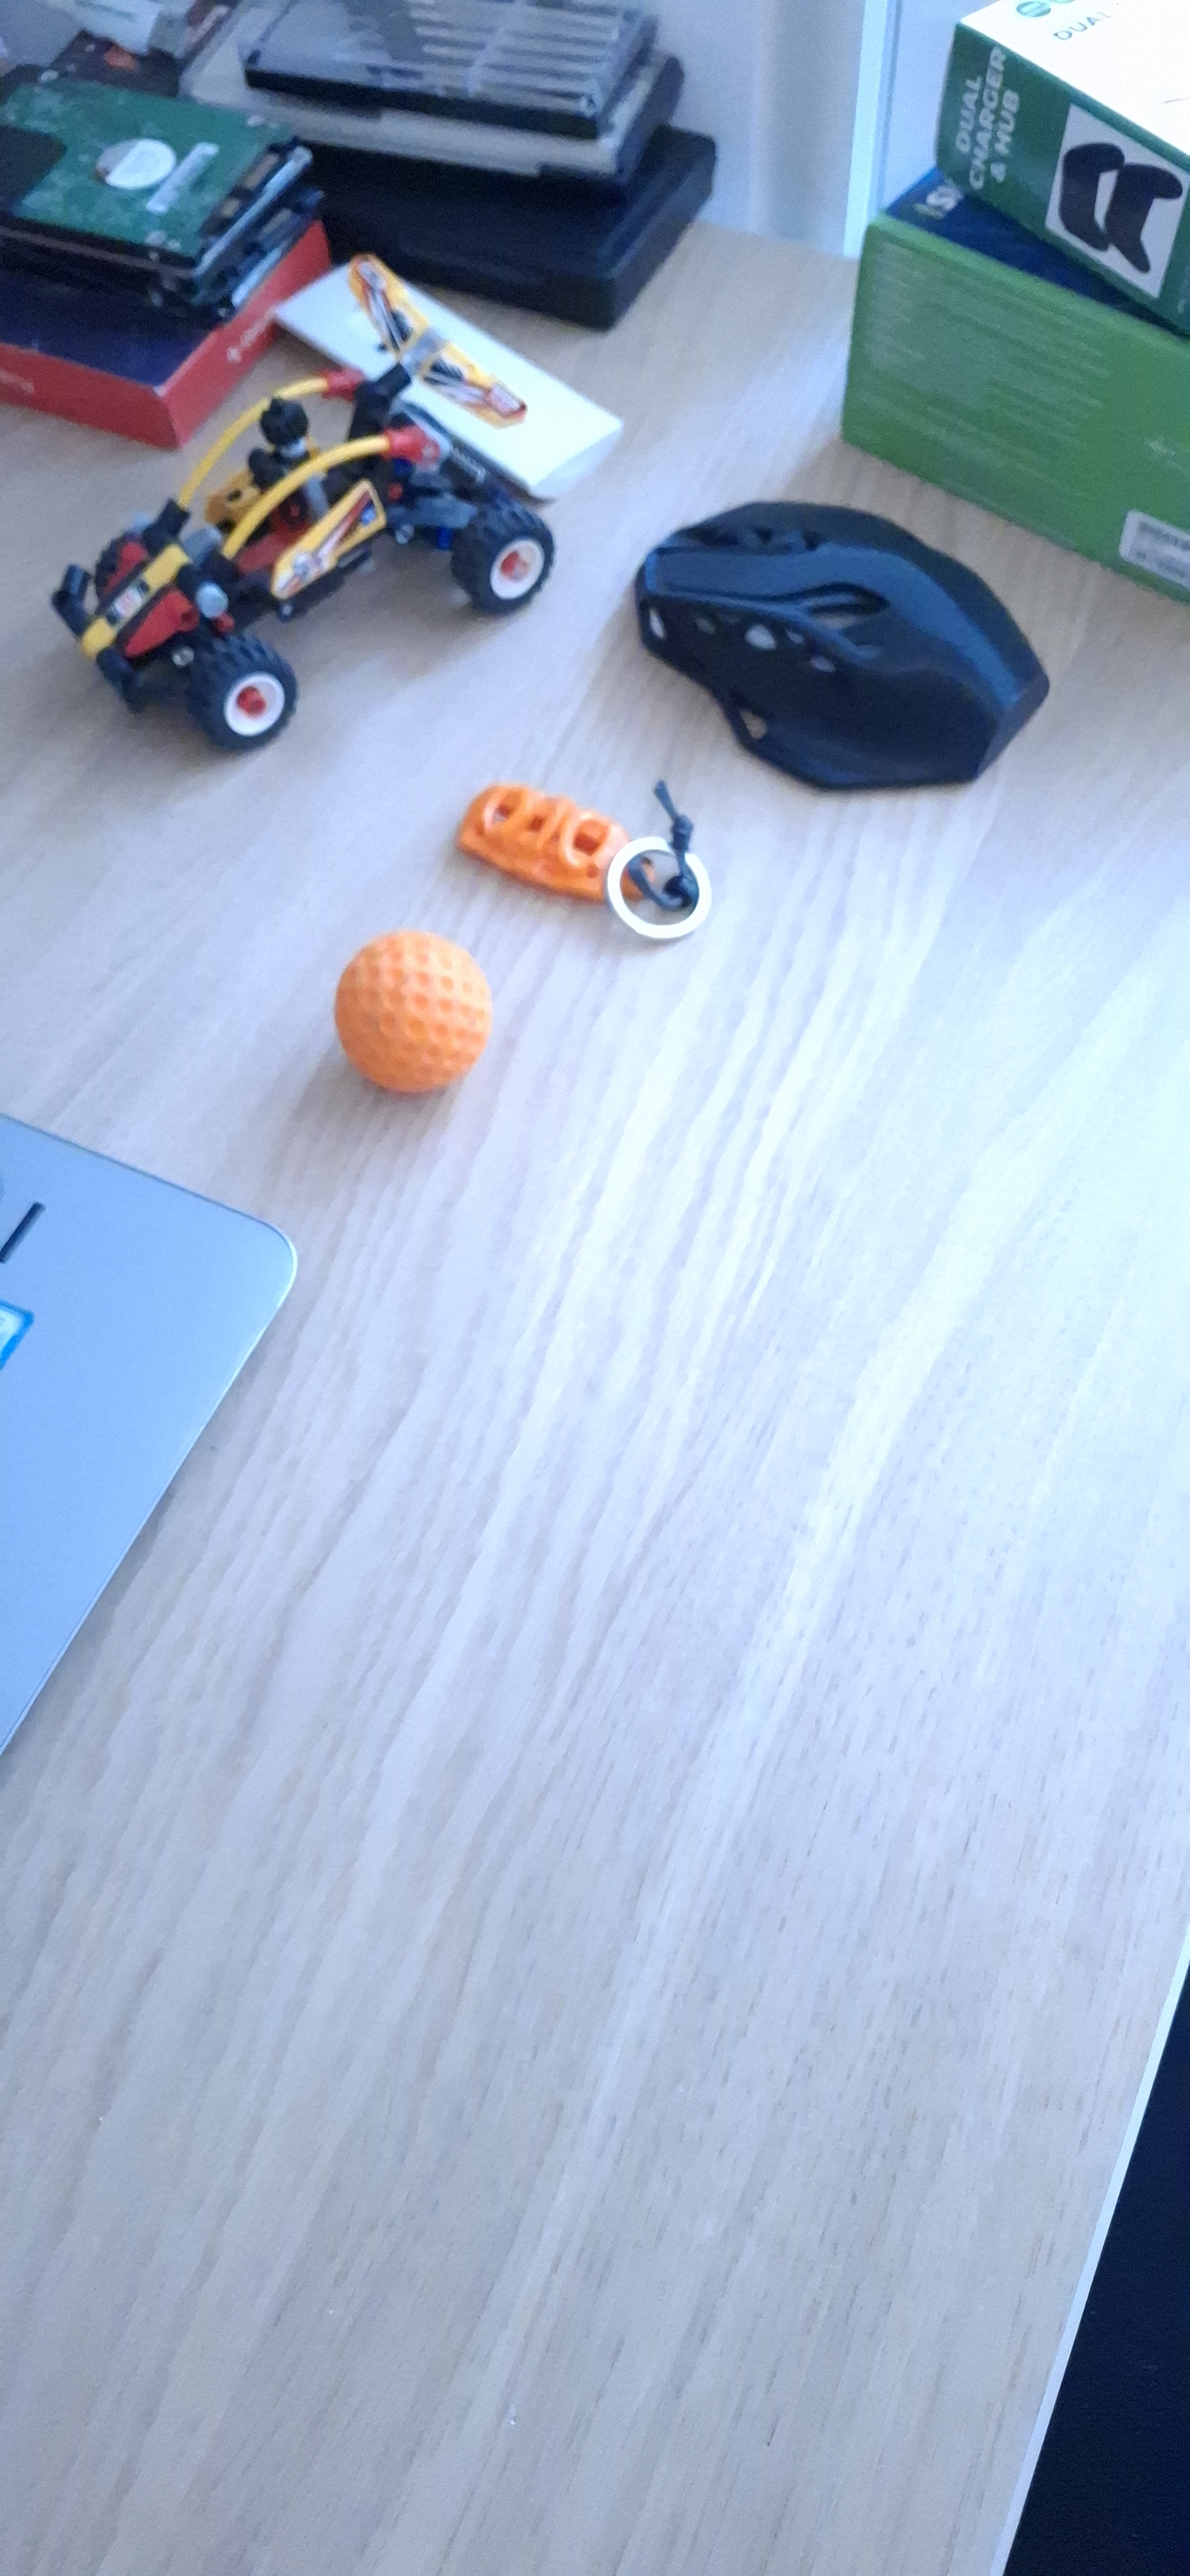ball: (427, 1511, 505, 1860)
